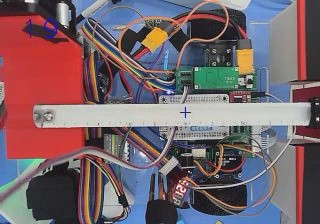ironball: (41, 109, 53, 122)
